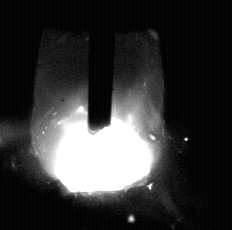arame: (89, 0, 113, 134)
poca: (31, 0, 168, 230)
